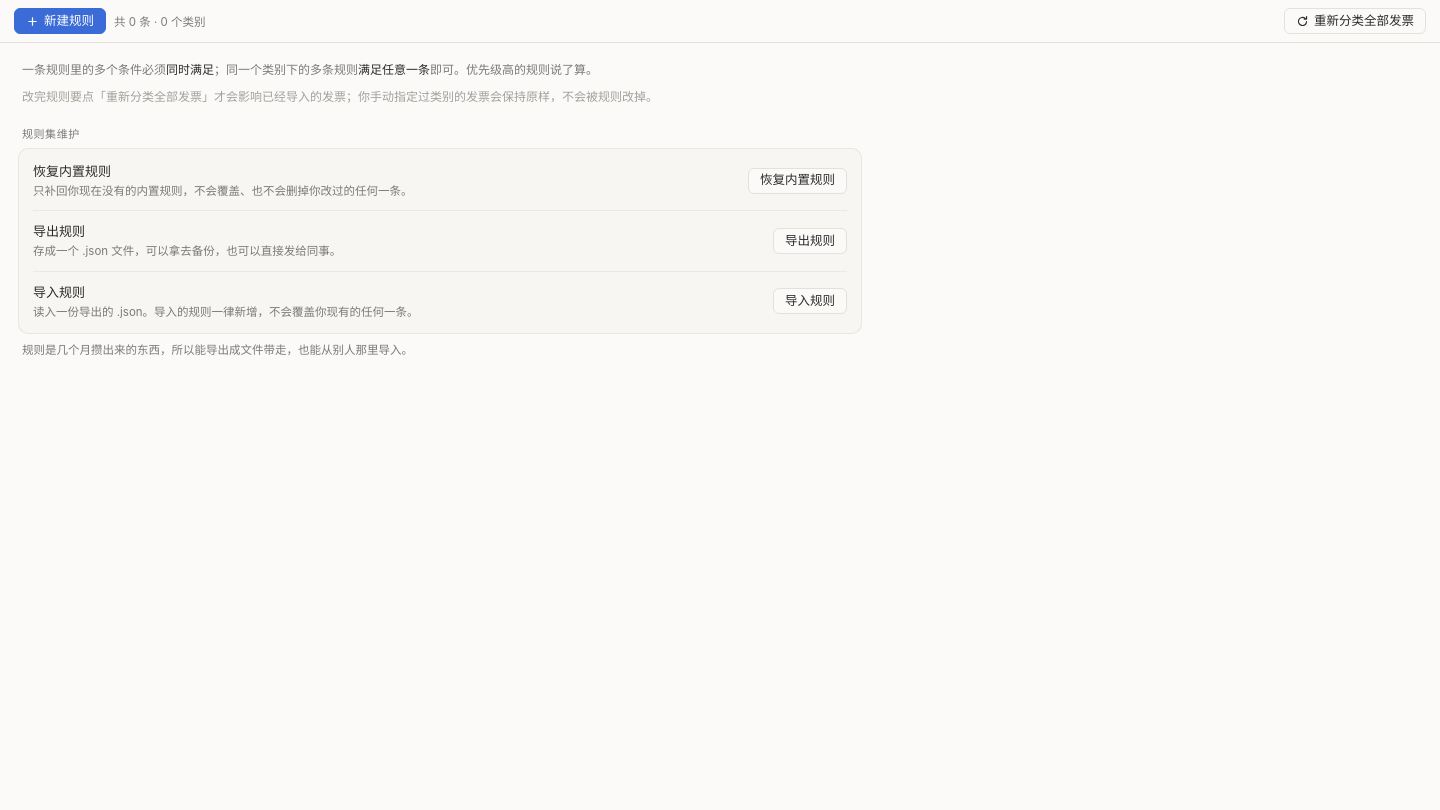
it: RulesPane › says how many invoices actually moved when the rules are re-run
Click the button "重新分类全部发票" at (1355, 21), box [1284,8,1426,34]
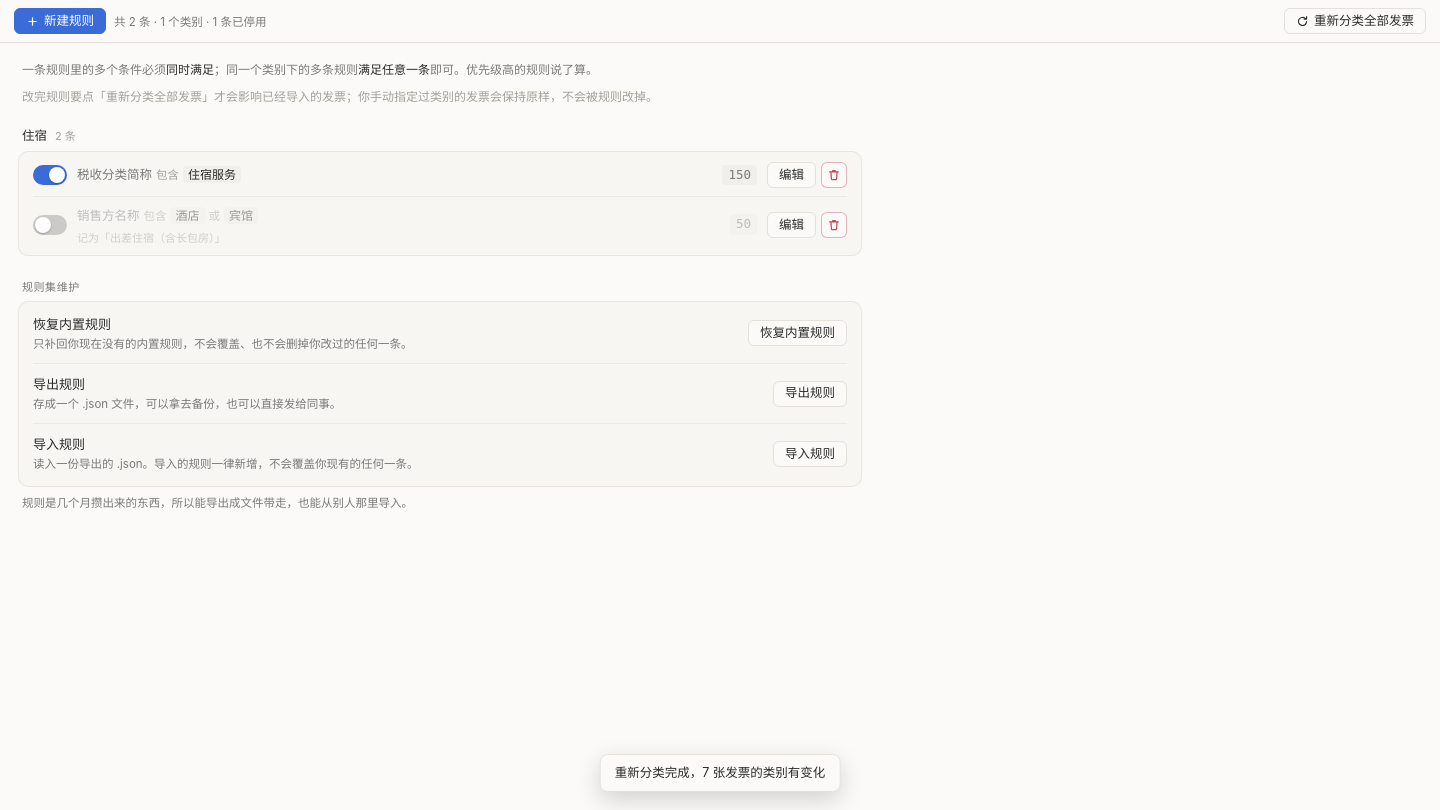
Result: the text "重新分类完成，7 张发票的类别有变化" is shown at [600,754,840,792]
